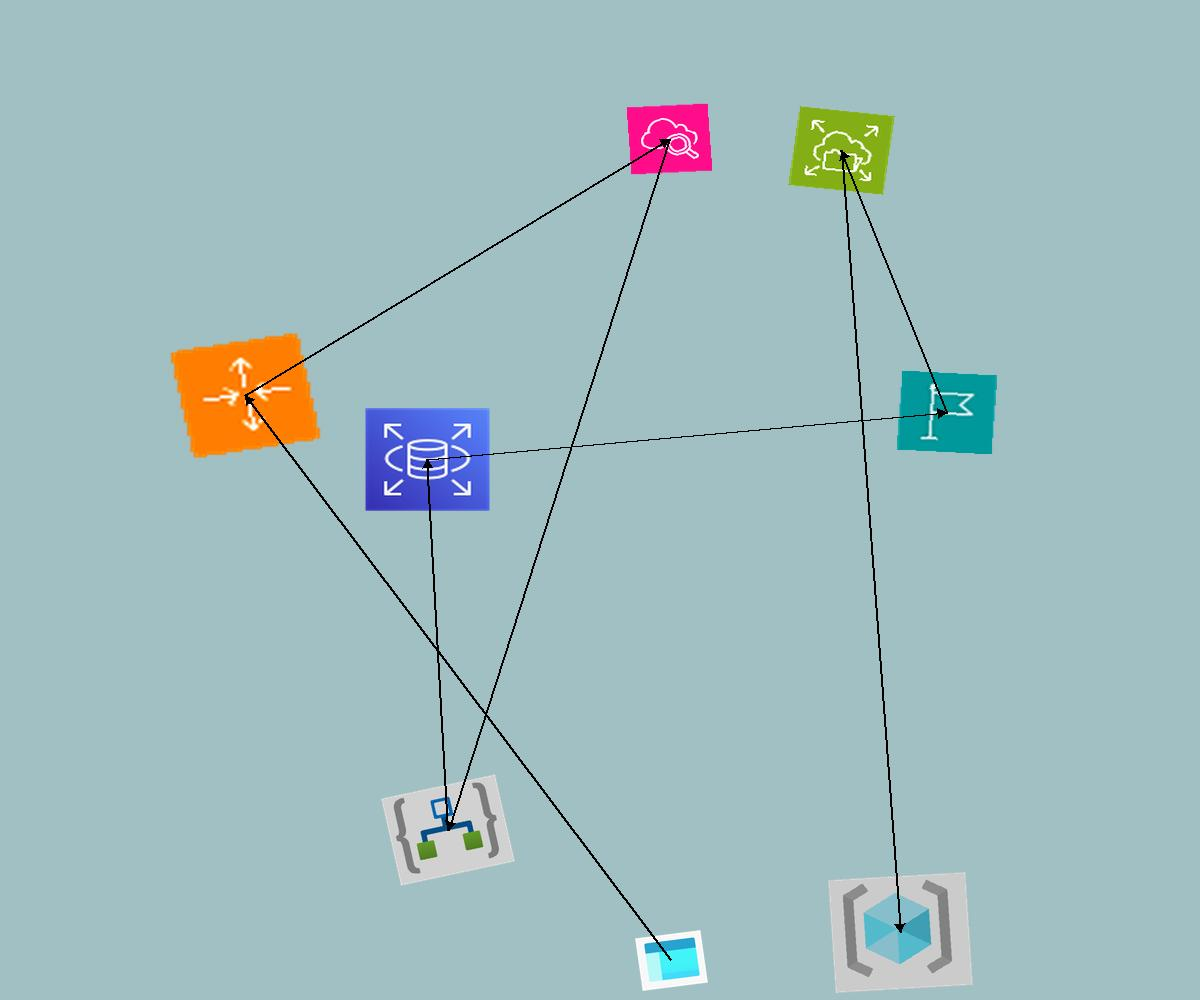AWS-CloudWatch: (626, 103, 713, 175)
AWS-EFS: (788, 106, 895, 195)
AWS-RDS: (364, 407, 491, 512)
AWS-Region: (896, 370, 998, 455)
AWS-Scaling-group: (168, 331, 323, 460)
Azure_integration-204-Logic-Apps: (381, 774, 515, 886)
Azure_management-portal: (635, 930, 708, 991)
Azure_resource_group: (828, 872, 973, 993)
